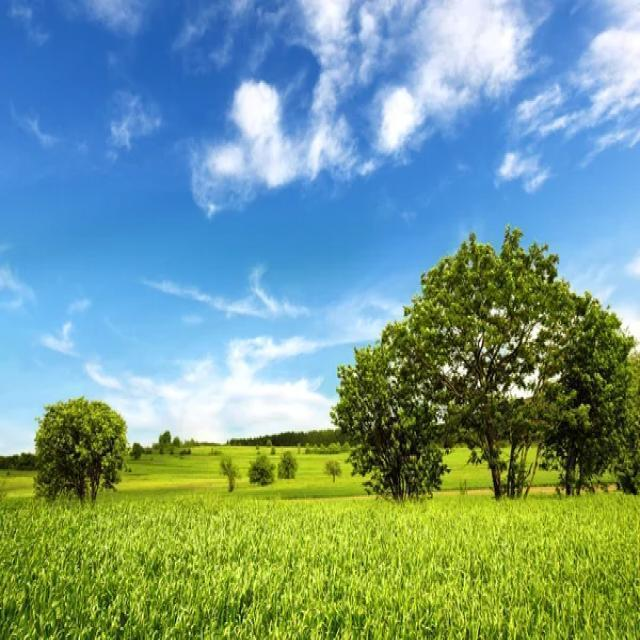tree: (332, 233, 640, 515), (36, 392, 132, 501), (217, 456, 243, 499), (250, 450, 274, 488), (280, 453, 300, 483)
